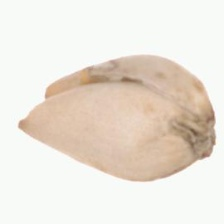L1: (186, 104, 217, 160), (17, 85, 50, 133)
L2: (18, 53, 217, 183)
